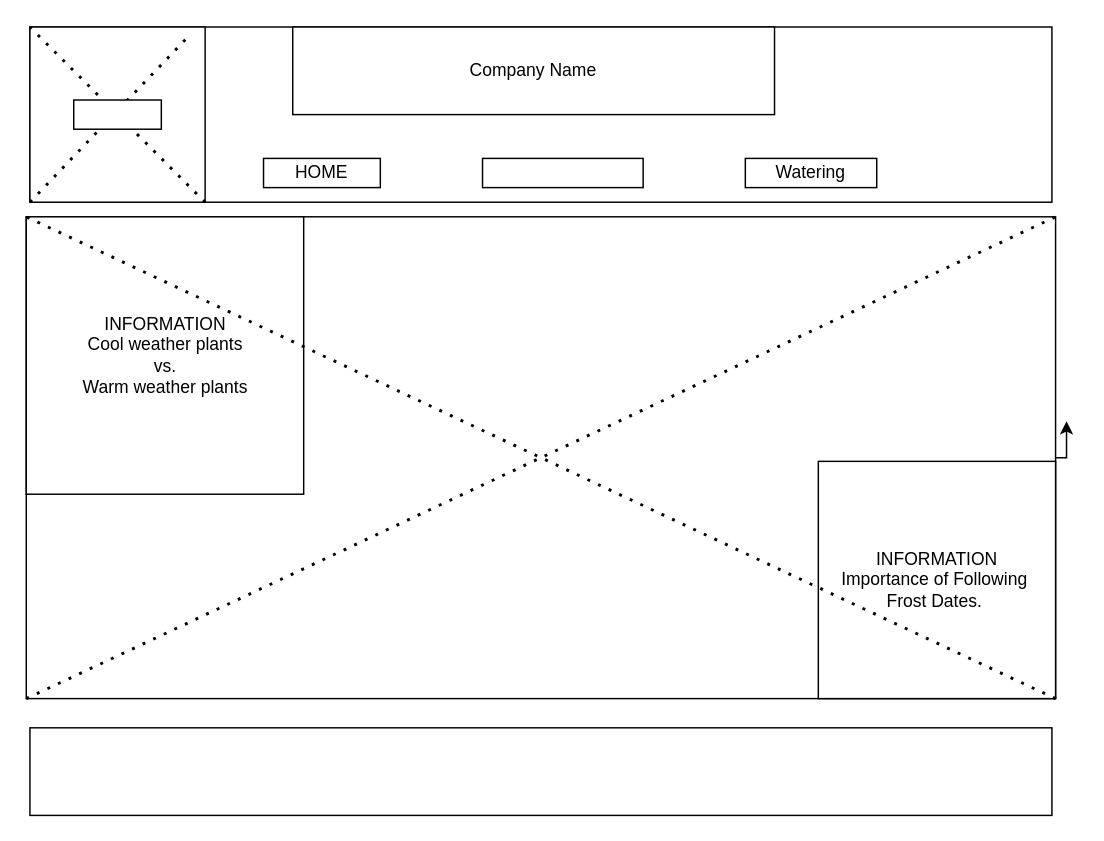
The diagram is 1104 pixels wide and 841 high, and some of its shapes have lost their labels. The shapes that lost their labels are listed below. From the top down, each one's box as (x1, y1, x2, y2) in pixels, then its label:
(72, 99, 161, 129): LOGO
(481, 157, 643, 188): PLANNING
